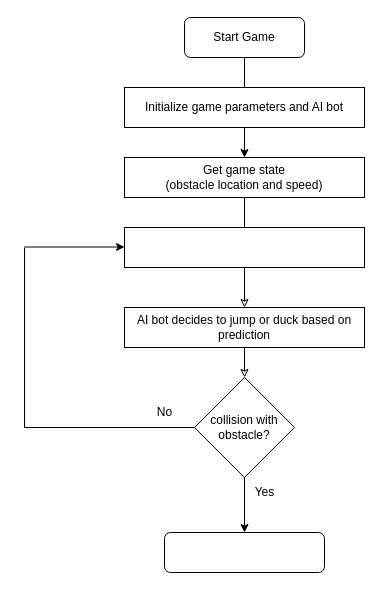
Some shapes in this 382 by 590 pixel diagram are drawn without their labels. Here are the shapes that lost their labels. From the top down, the box of each, then its label:
(124, 226, 364, 268): AI bot predicts next obstacle location using game state and rules
(164, 532, 324, 572): End game and report results
